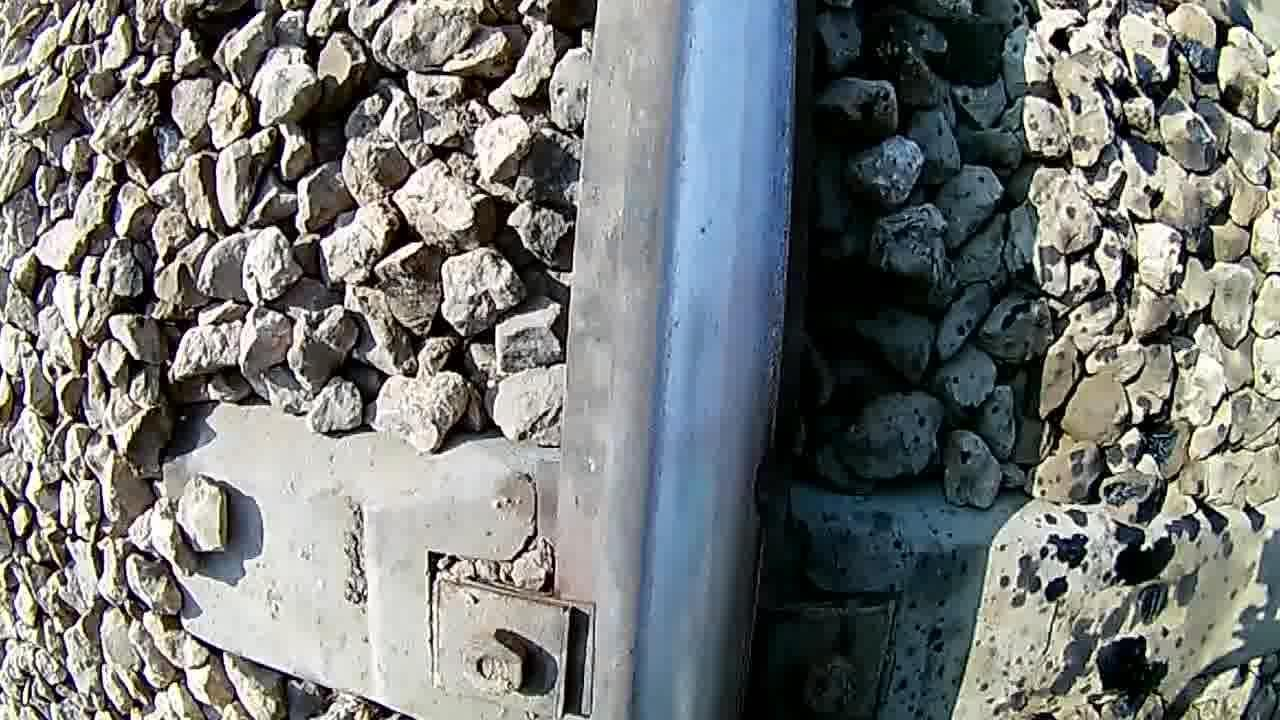crack: (590, 0, 790, 718)
